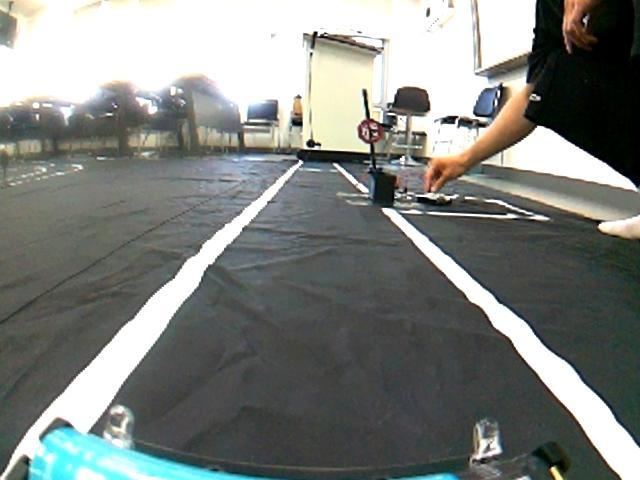sign_stop: (355, 116, 386, 147)
straight: (5, 202, 640, 480)
